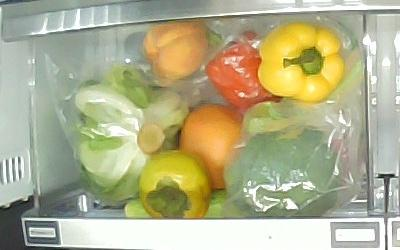broccoli_vinyl: (229, 126, 337, 218)
grapefruit: (180, 104, 244, 189)
lettuce_vinyl: (74, 64, 191, 201)
paprika: (257, 22, 345, 103)
paprika_vinyl: (203, 40, 284, 110)
peach: (142, 20, 209, 80)
persimmon: (140, 151, 210, 219)
